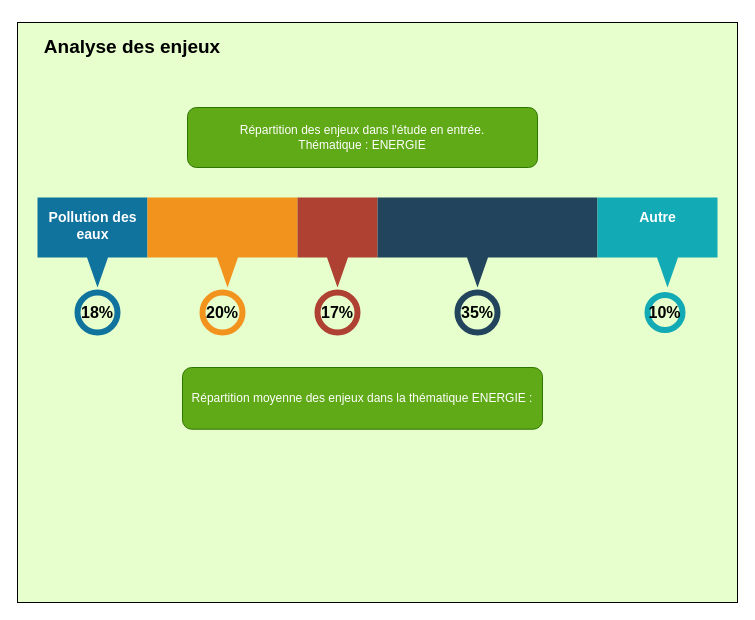
The diagram is 755 pixels wide and 620 high, and some of its shapes have lost their labels. Here are the shapes that lost their labels. From the top down, the centre of each, then its label:
At (x=222, y=242): "Pollution des sols".
At (x=337, y=242): "Gaz a effet de serre".
At (x=487, y=242): "Artificialisation des sols".
